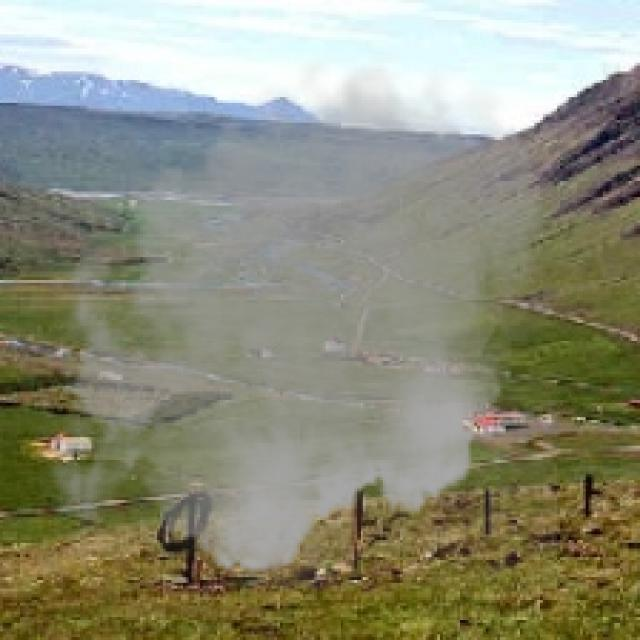Smoke: (31, 46, 558, 588)
